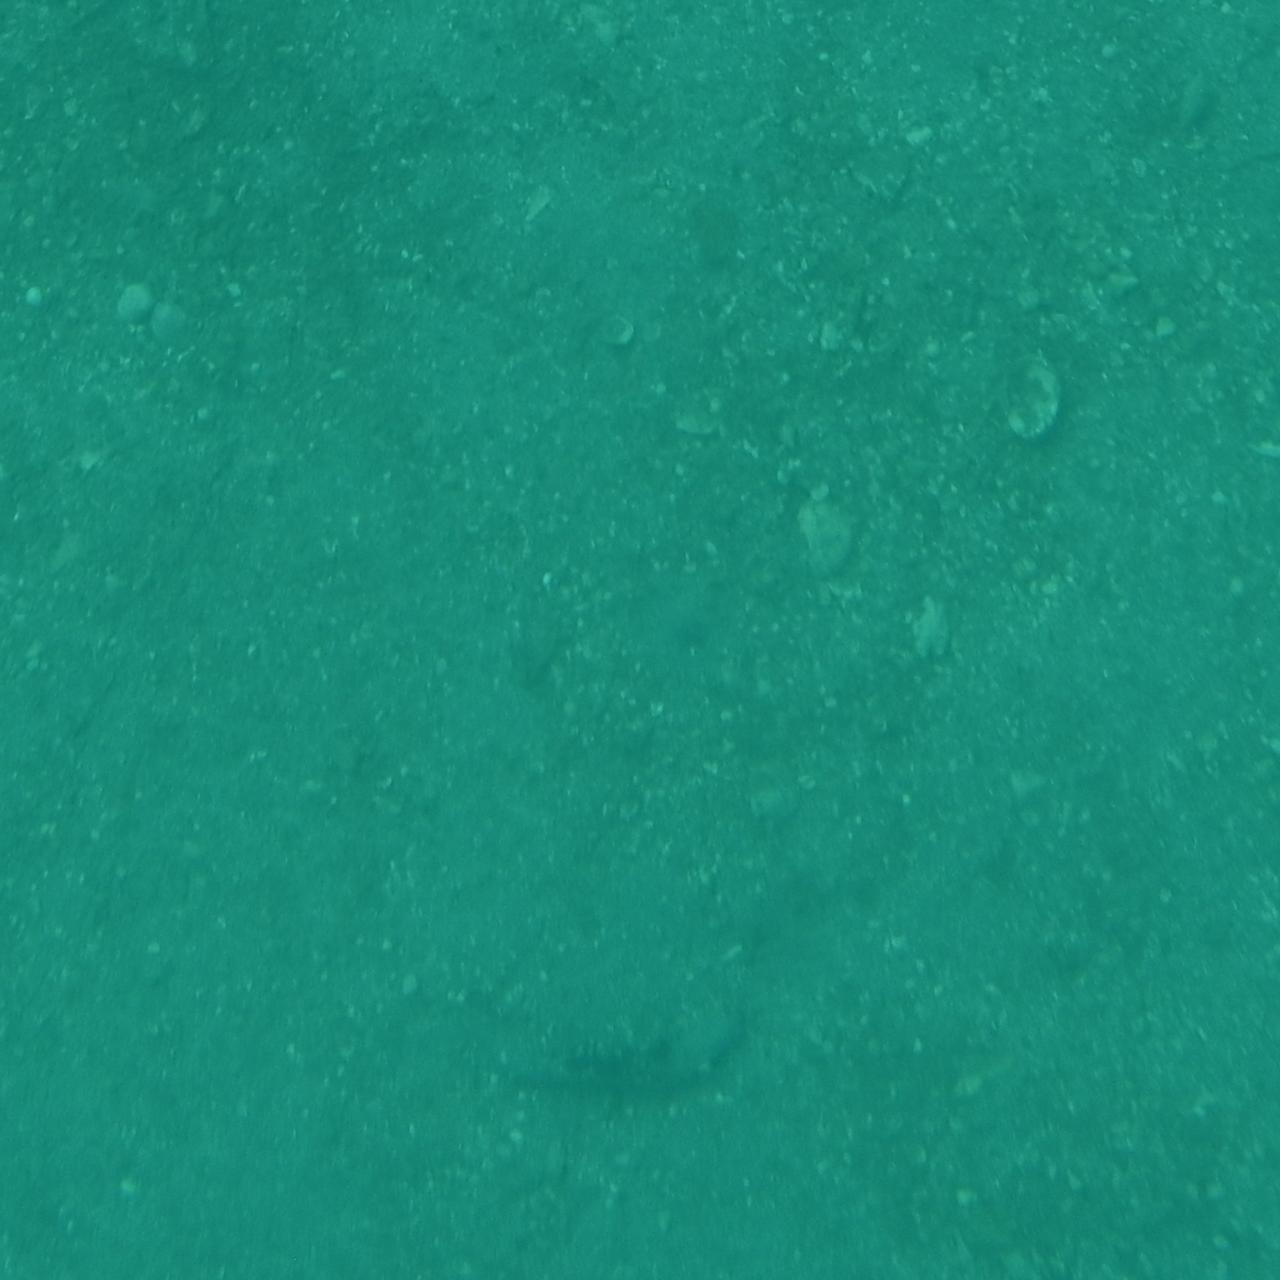Holothuria tubulosa: (496, 978, 784, 1096)
